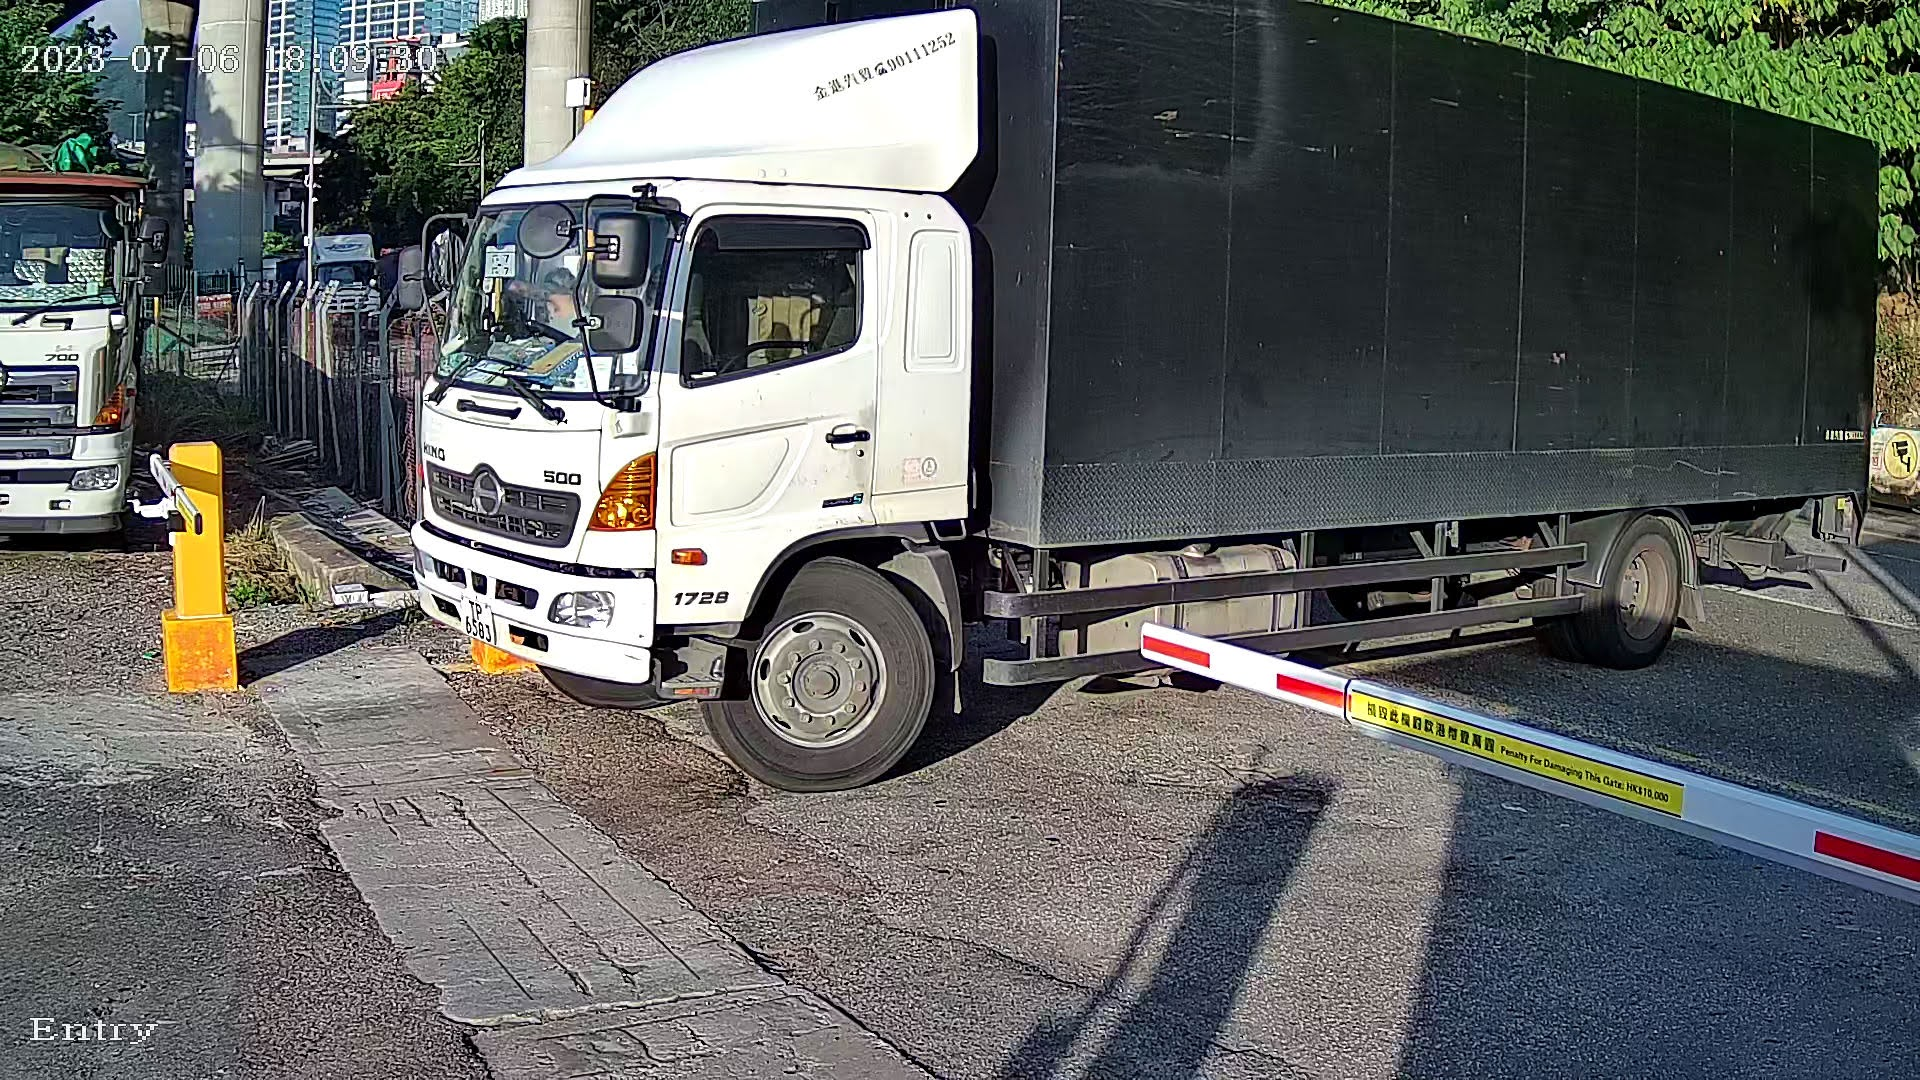truck: (378, 1, 1899, 789)
